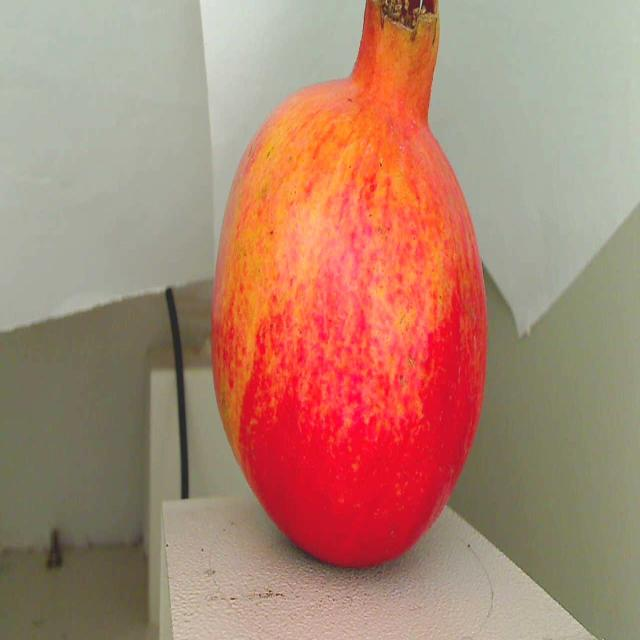pomegranate: (206, 0, 498, 580)
